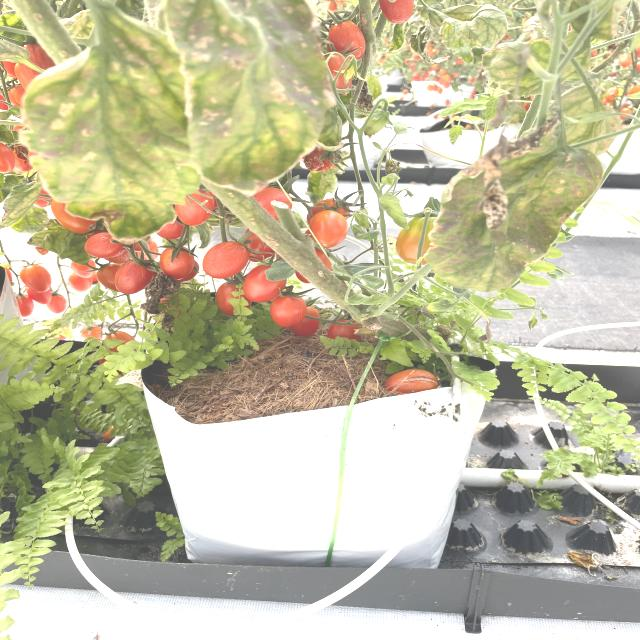Obstacle: (406, 366, 468, 533)
Soilbag: (144, 383, 486, 571)
Tomato: (12, 187, 344, 321)
plant: (31, 20, 607, 375)
